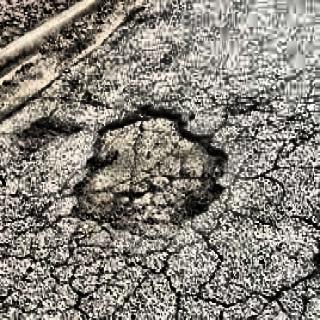alligator-crack: (3, 107, 320, 320)
pothole: (72, 96, 229, 235)
